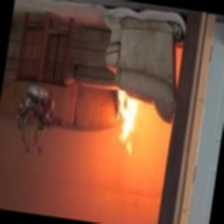fire: (107, 96, 151, 156)
